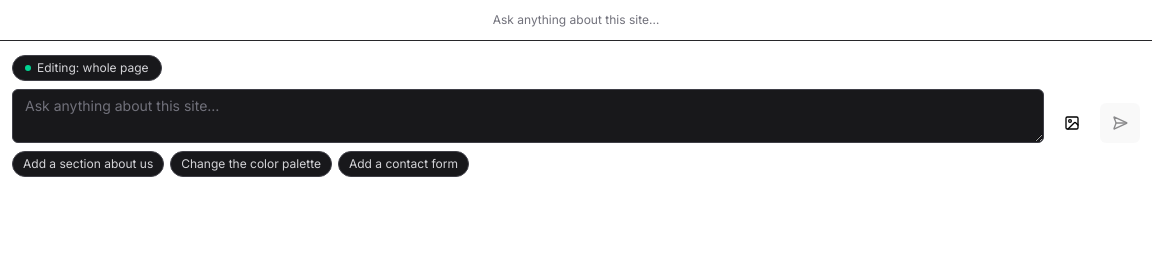
RightSidebarAiChat › clarify response renders the question without Accept/Discard
The width and height of the screenshot is (1152, 264).
Type "fix it" into the text box with test id "composer-textarea" at [528, 116], box [12, 89, 1044, 143]
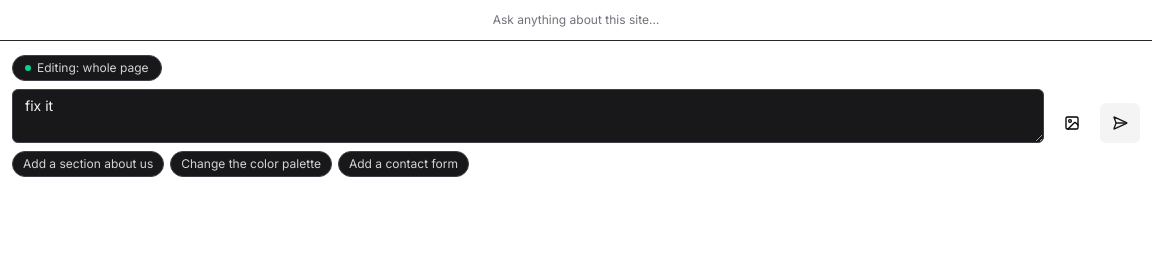
Click the button named "Send" at [1120, 123], box [1100, 103, 1140, 143]
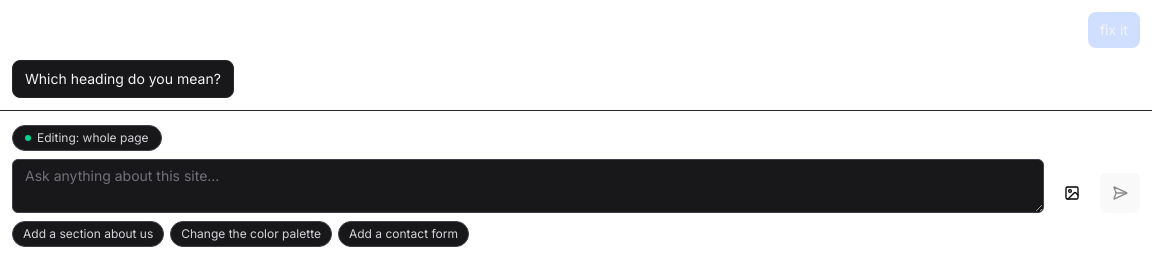
Check: the text box with test id "composer-textarea" is shown, box [12, 159, 1044, 213]
Check: the element with test id "assistant-clarify" shows "Which heading", box [25, 70, 221, 87]
